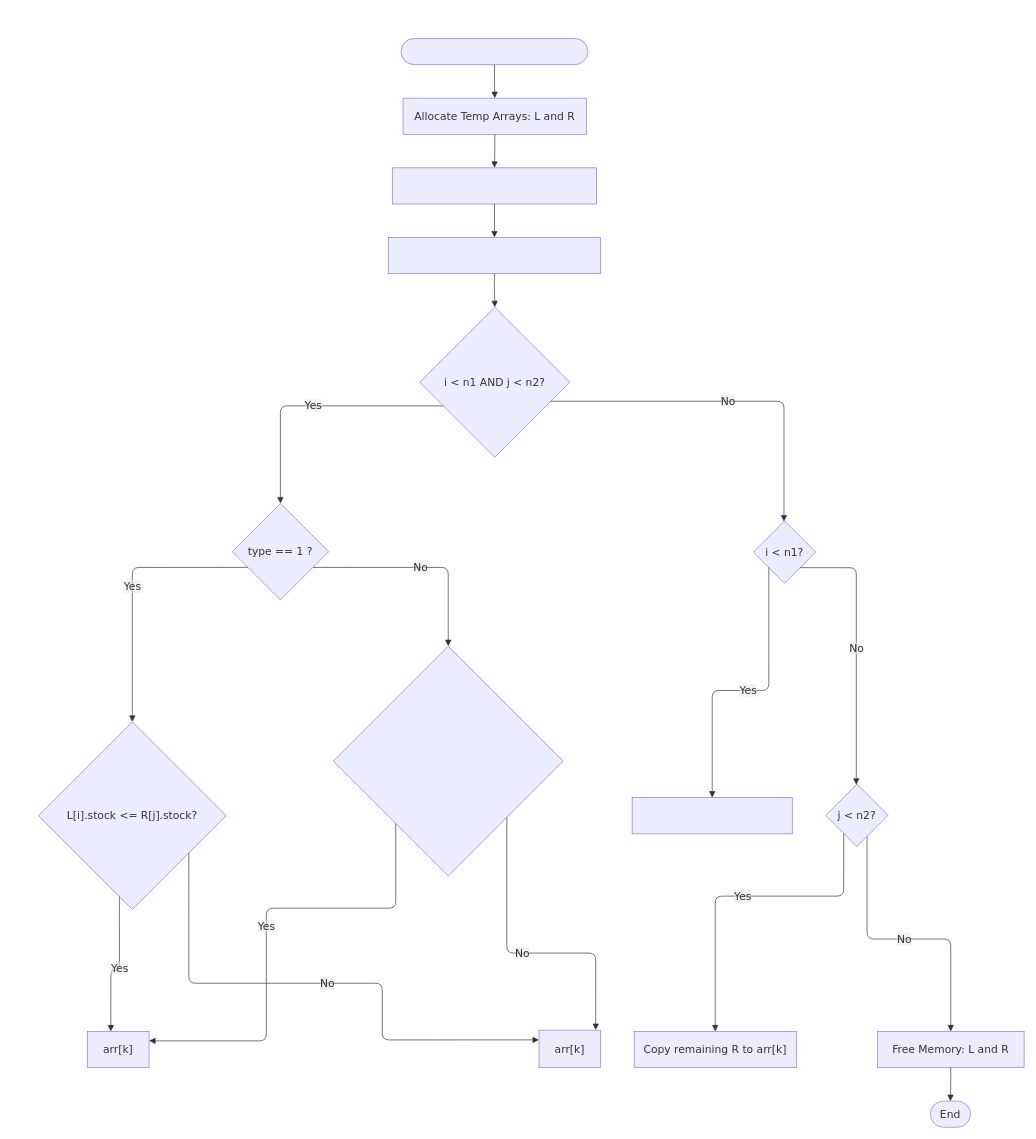
Some shapes in this 1036 by 1139 pixel diagram are drawn without their labels. The shapes that lost their labels are listed below. From the top down, each one's centre as x and y in pixels, then its label:
At [494,51]: "Start: merge arr, left, mid, right, type".
At [494,185]: "Copy elements from arr to L and R".
At [494,255]: "Initialize Pointers: i = 0, j = 0, k = left".
At [448,761]: "L[i].warrantyPeriod <= R[j].warrantyPeriod?".
At [711,815]: "Copy remaining L to arr[k]".
